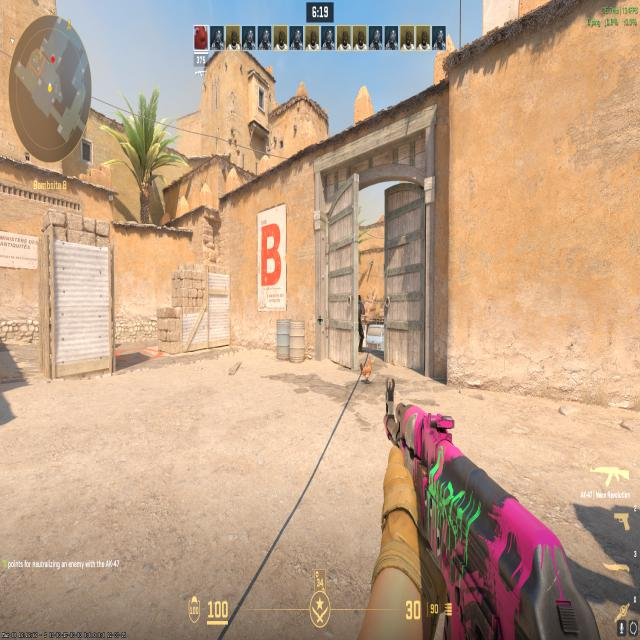t: (356, 287, 366, 357)
